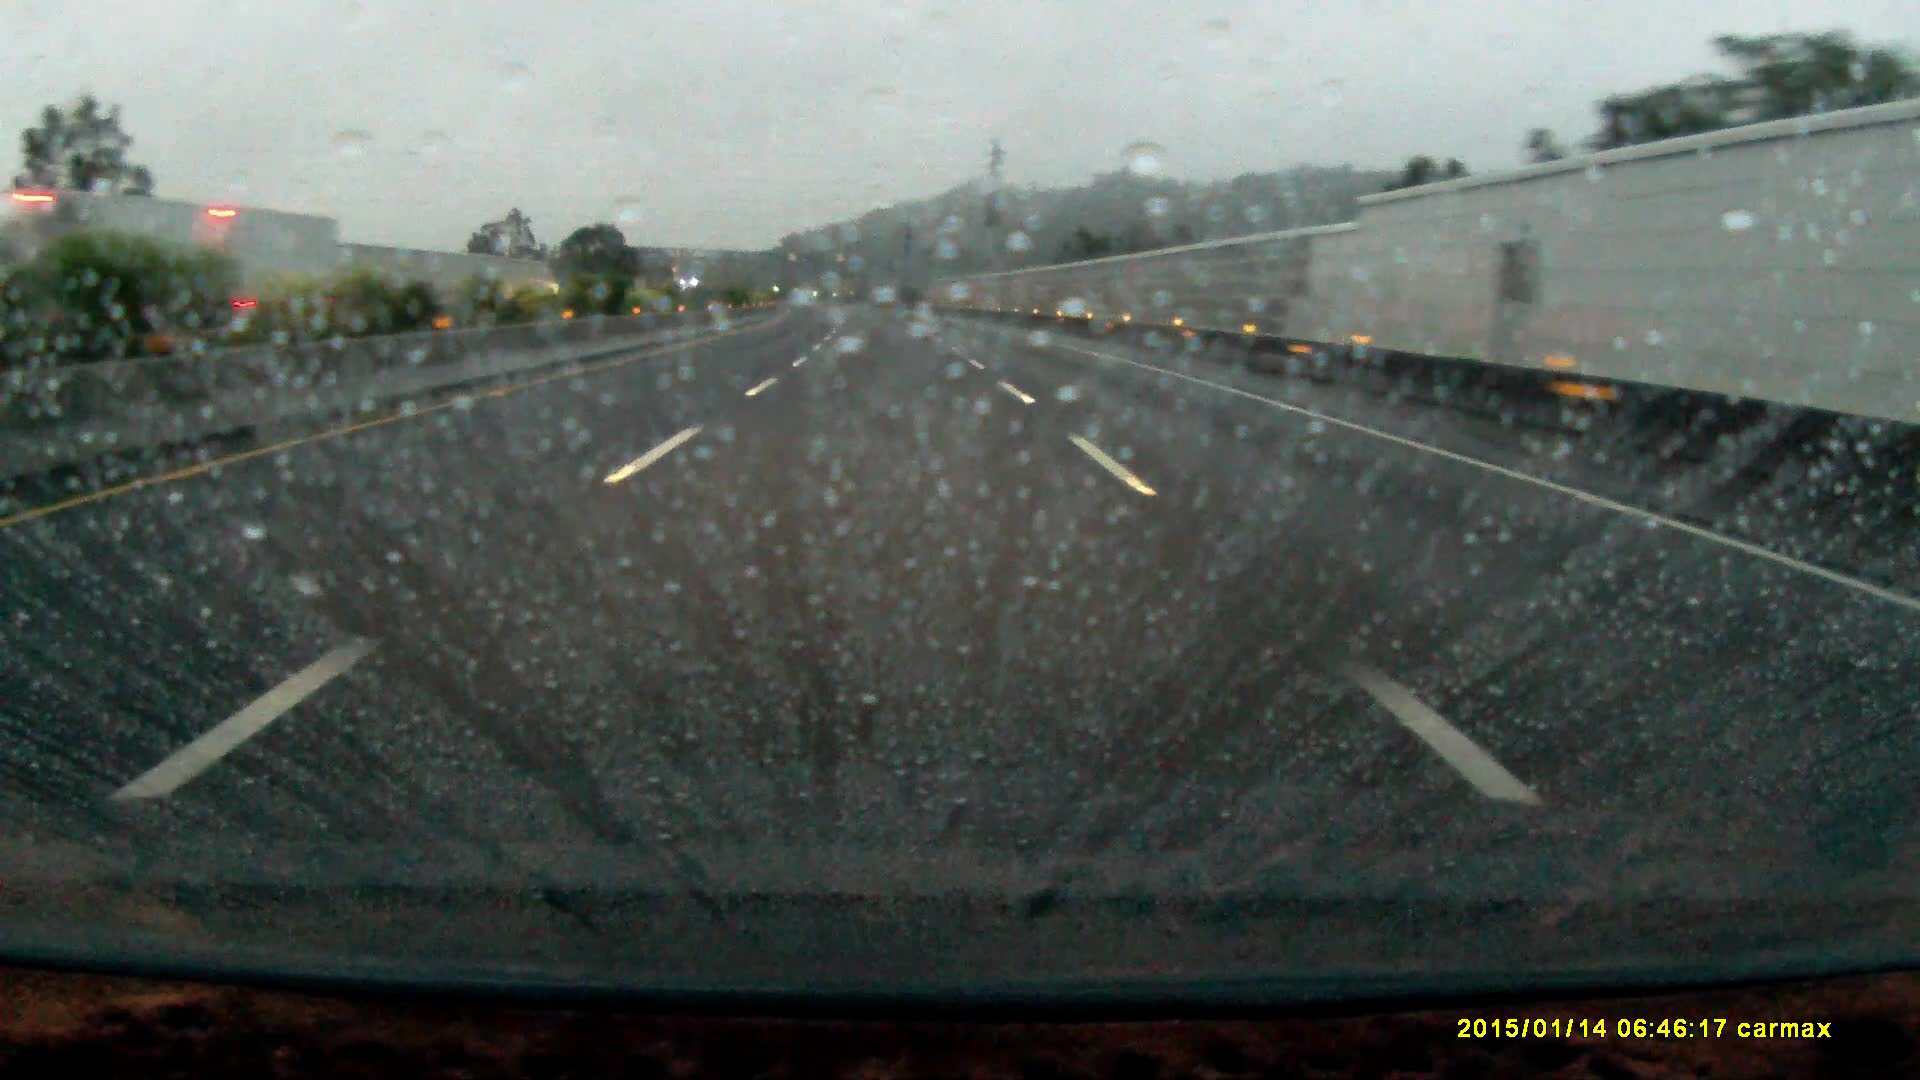vehicle: (12, 200, 311, 342)
